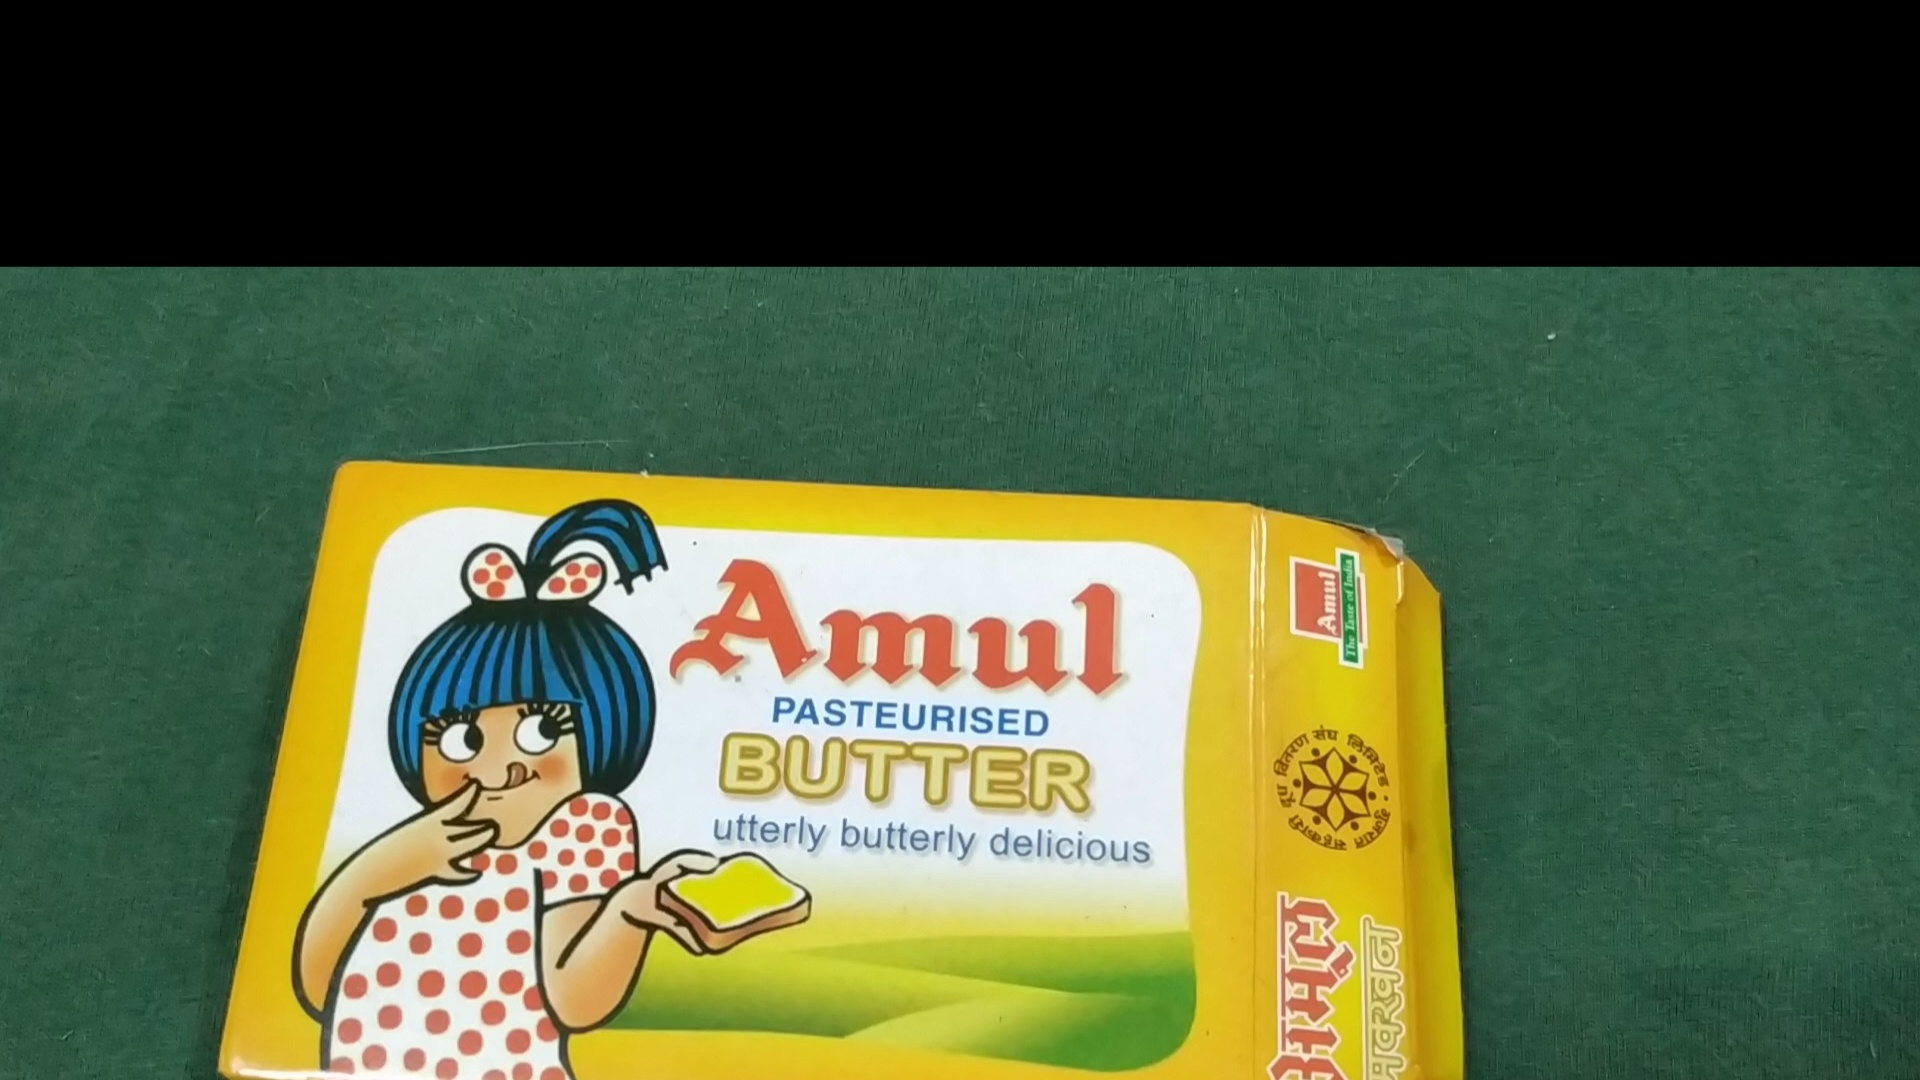amul_butter: (210, 460, 1457, 1080)
